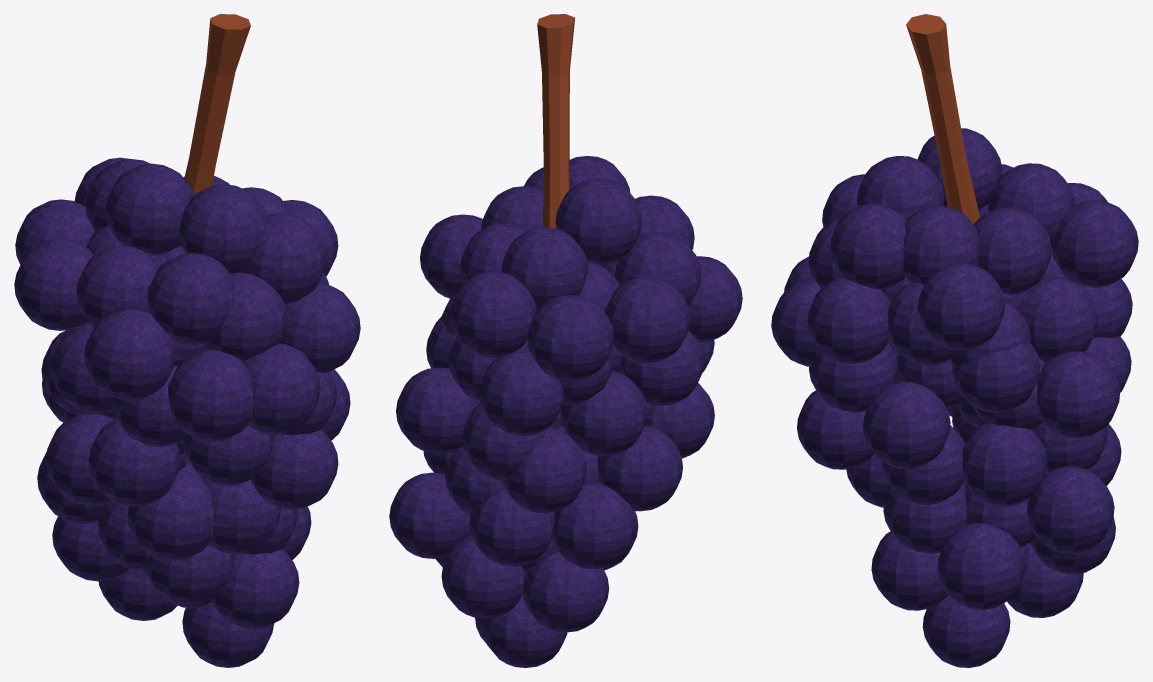
The model's file is f2dce43b-46a4-4caf-9674-8432f13368db.glb.
3 views of the same model, side by side, from view 1: azimuth 30°, elevation 25°; view 2: azimuth 150°, elevation 25°; view 3: azimuth 270°, elevation 25° (orthographic). The views are drawn at different scales.
Parts seen in each view (by area): view 1: Node; view 2: Node; view 3: Node.
Part boxes in pixels (x1=…): Node: x1=14, y1=14, x2=360, y2=667; Node: x1=389, y1=14, x2=742, y2=667; Node: x1=771, y1=14, x2=1138, y2=667.
Size of the model in its own units: 2.33 by 5.04 by 2.65.
2 materials, 1 textured.
